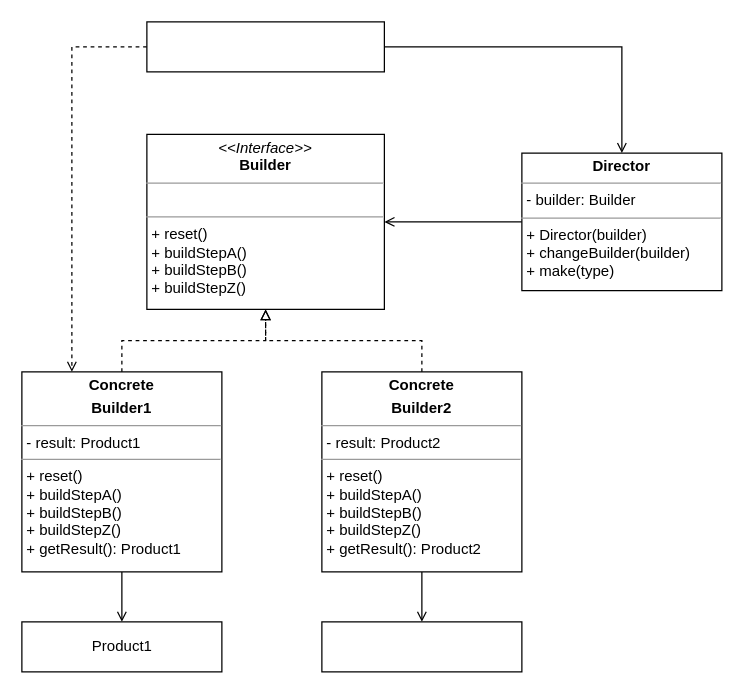
This 744x694 diagram has some shape labels left out. The shapes that lost their labels are listed below. From the top down, each one's centre as x and y in pixels, then its label:
At [265,46]: "Client".
At [421,646]: "Product2".
